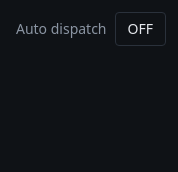
Scenario: AutoDispatchControl › does not claim ON when the backend refuses, and shows its message
Click the switch named "Auto dispatch" at (140, 29), box [114,12,166,46]
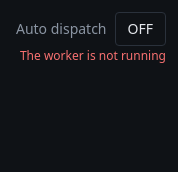
Expected: the message reads "The worker is not running", [20,47,166,64]
